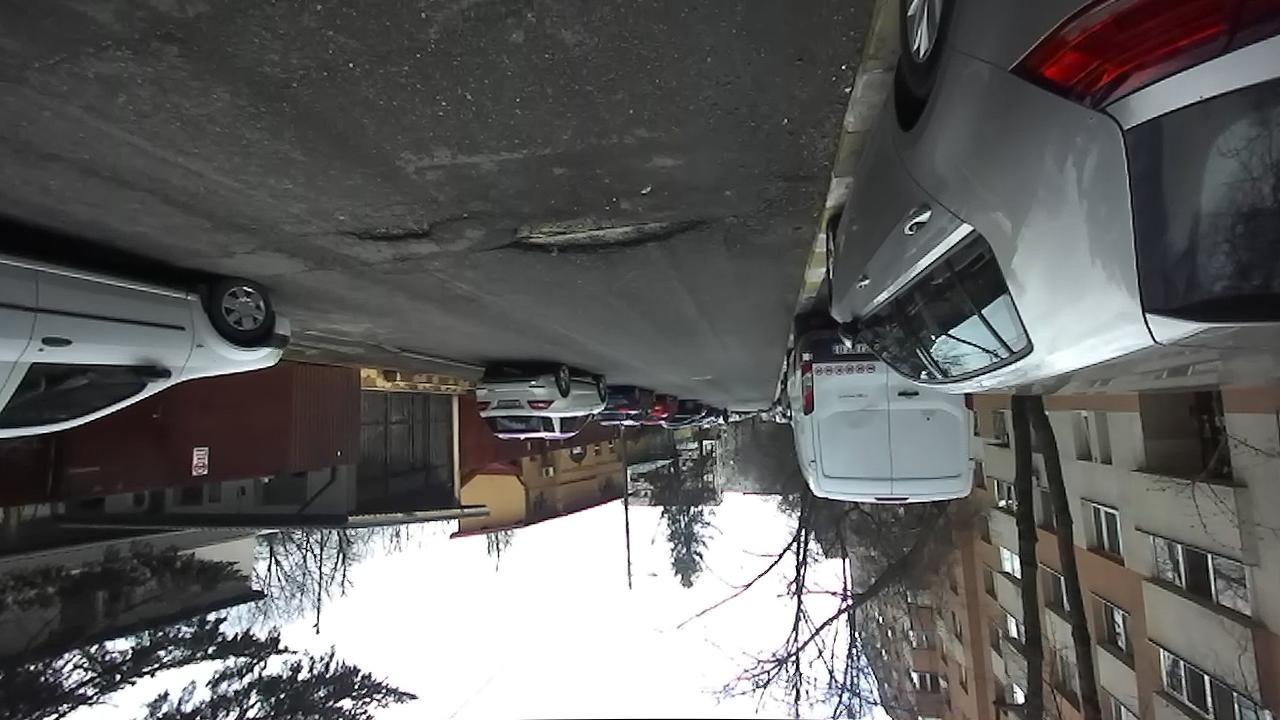pothole: (482, 209, 714, 258), (334, 206, 475, 245)
